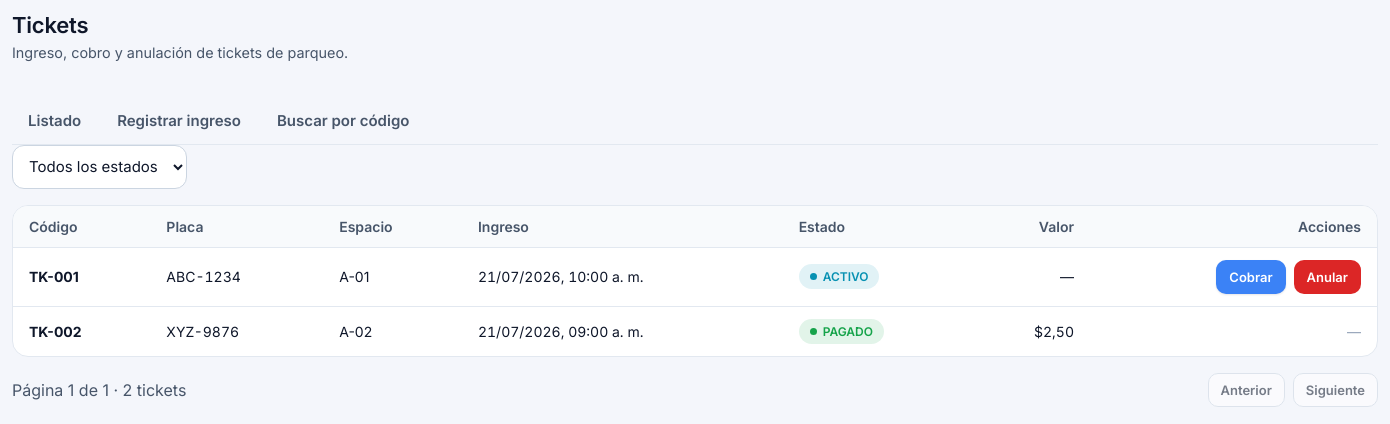
Test case: TicketsPage › buscar no encontrado muestra error
Expected: the text "TK-001" is shown, [29,268,79,285]
Click the tab "Buscar por código": (343, 121) [261,99,426,144]
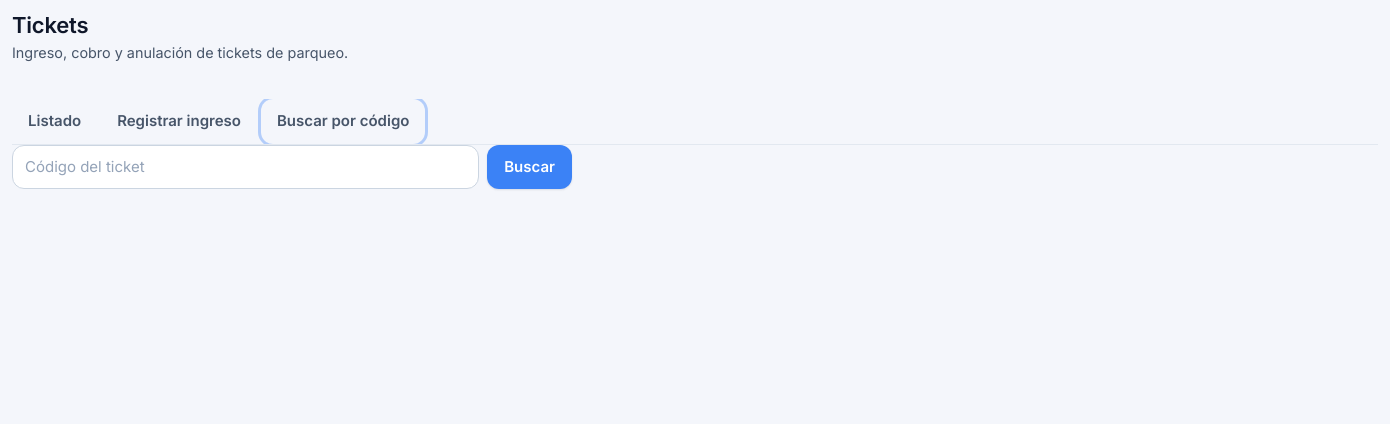
In the field labelled "Código del ticket": (246, 167) [12,145,479,189], type "NOPE"
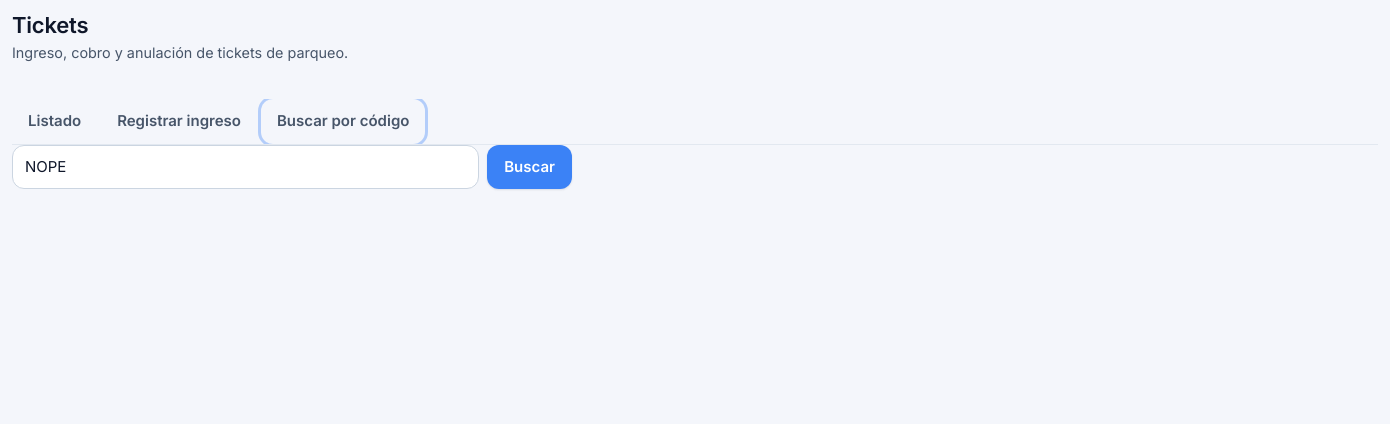
Click the button "Buscar": (530, 167) [487,145,572,189]
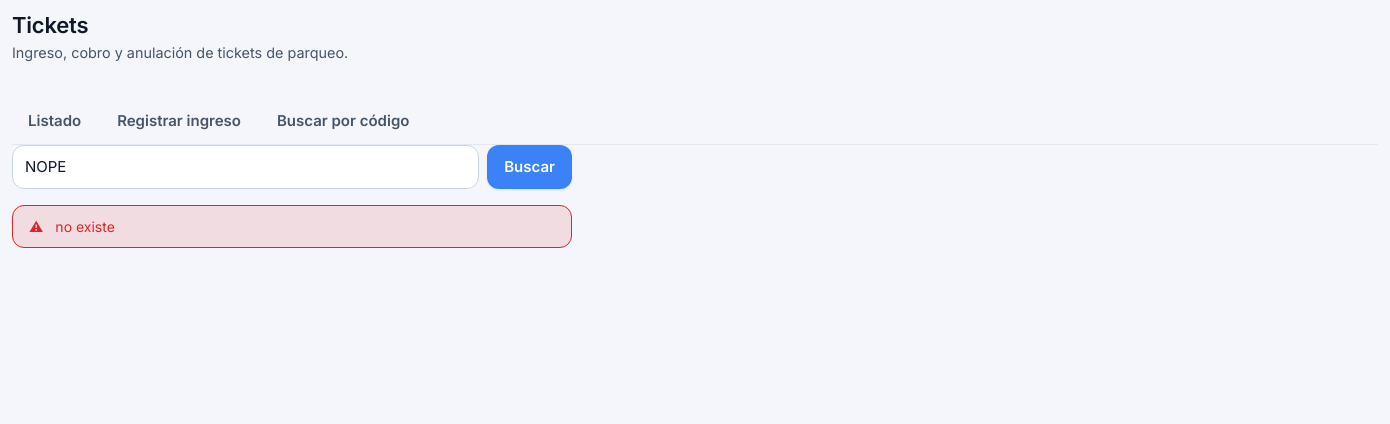
Expected: the text "no existe" is shown, [55,218,115,235]
